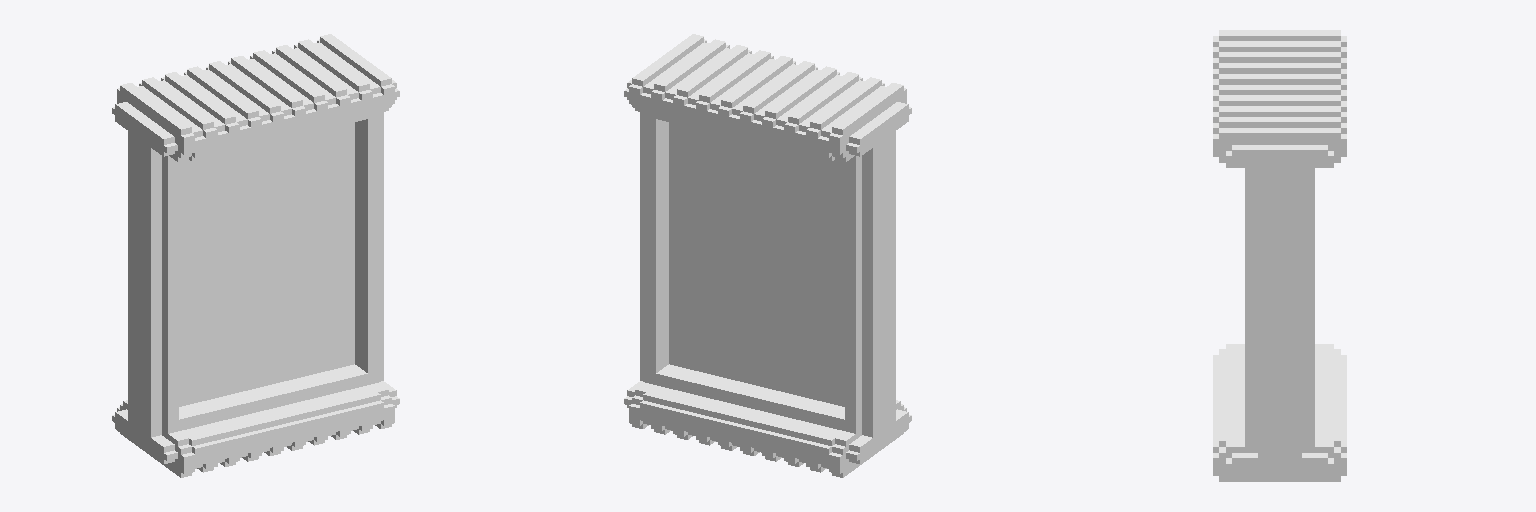
The model's file is portalAlpha.obj.
3 renders of one model, left to right at view 1: azimuth 30°, elevation 25°; view 2: azimuth 150°, elevation 25°; view 3: azimuth 270°, elevation 25°, orthographic.
Visible parts, largest first — view 1: object 1; view 2: object 1; view 3: object 1.
Part boxes in pixels (x1,y1,x2,y2): object 1: (112,34,399,477); object 1: (624,34,911,477); object 1: (1213,30,1346,481).
Size of the model in its own units: 4.2 by 6 by 2.1.